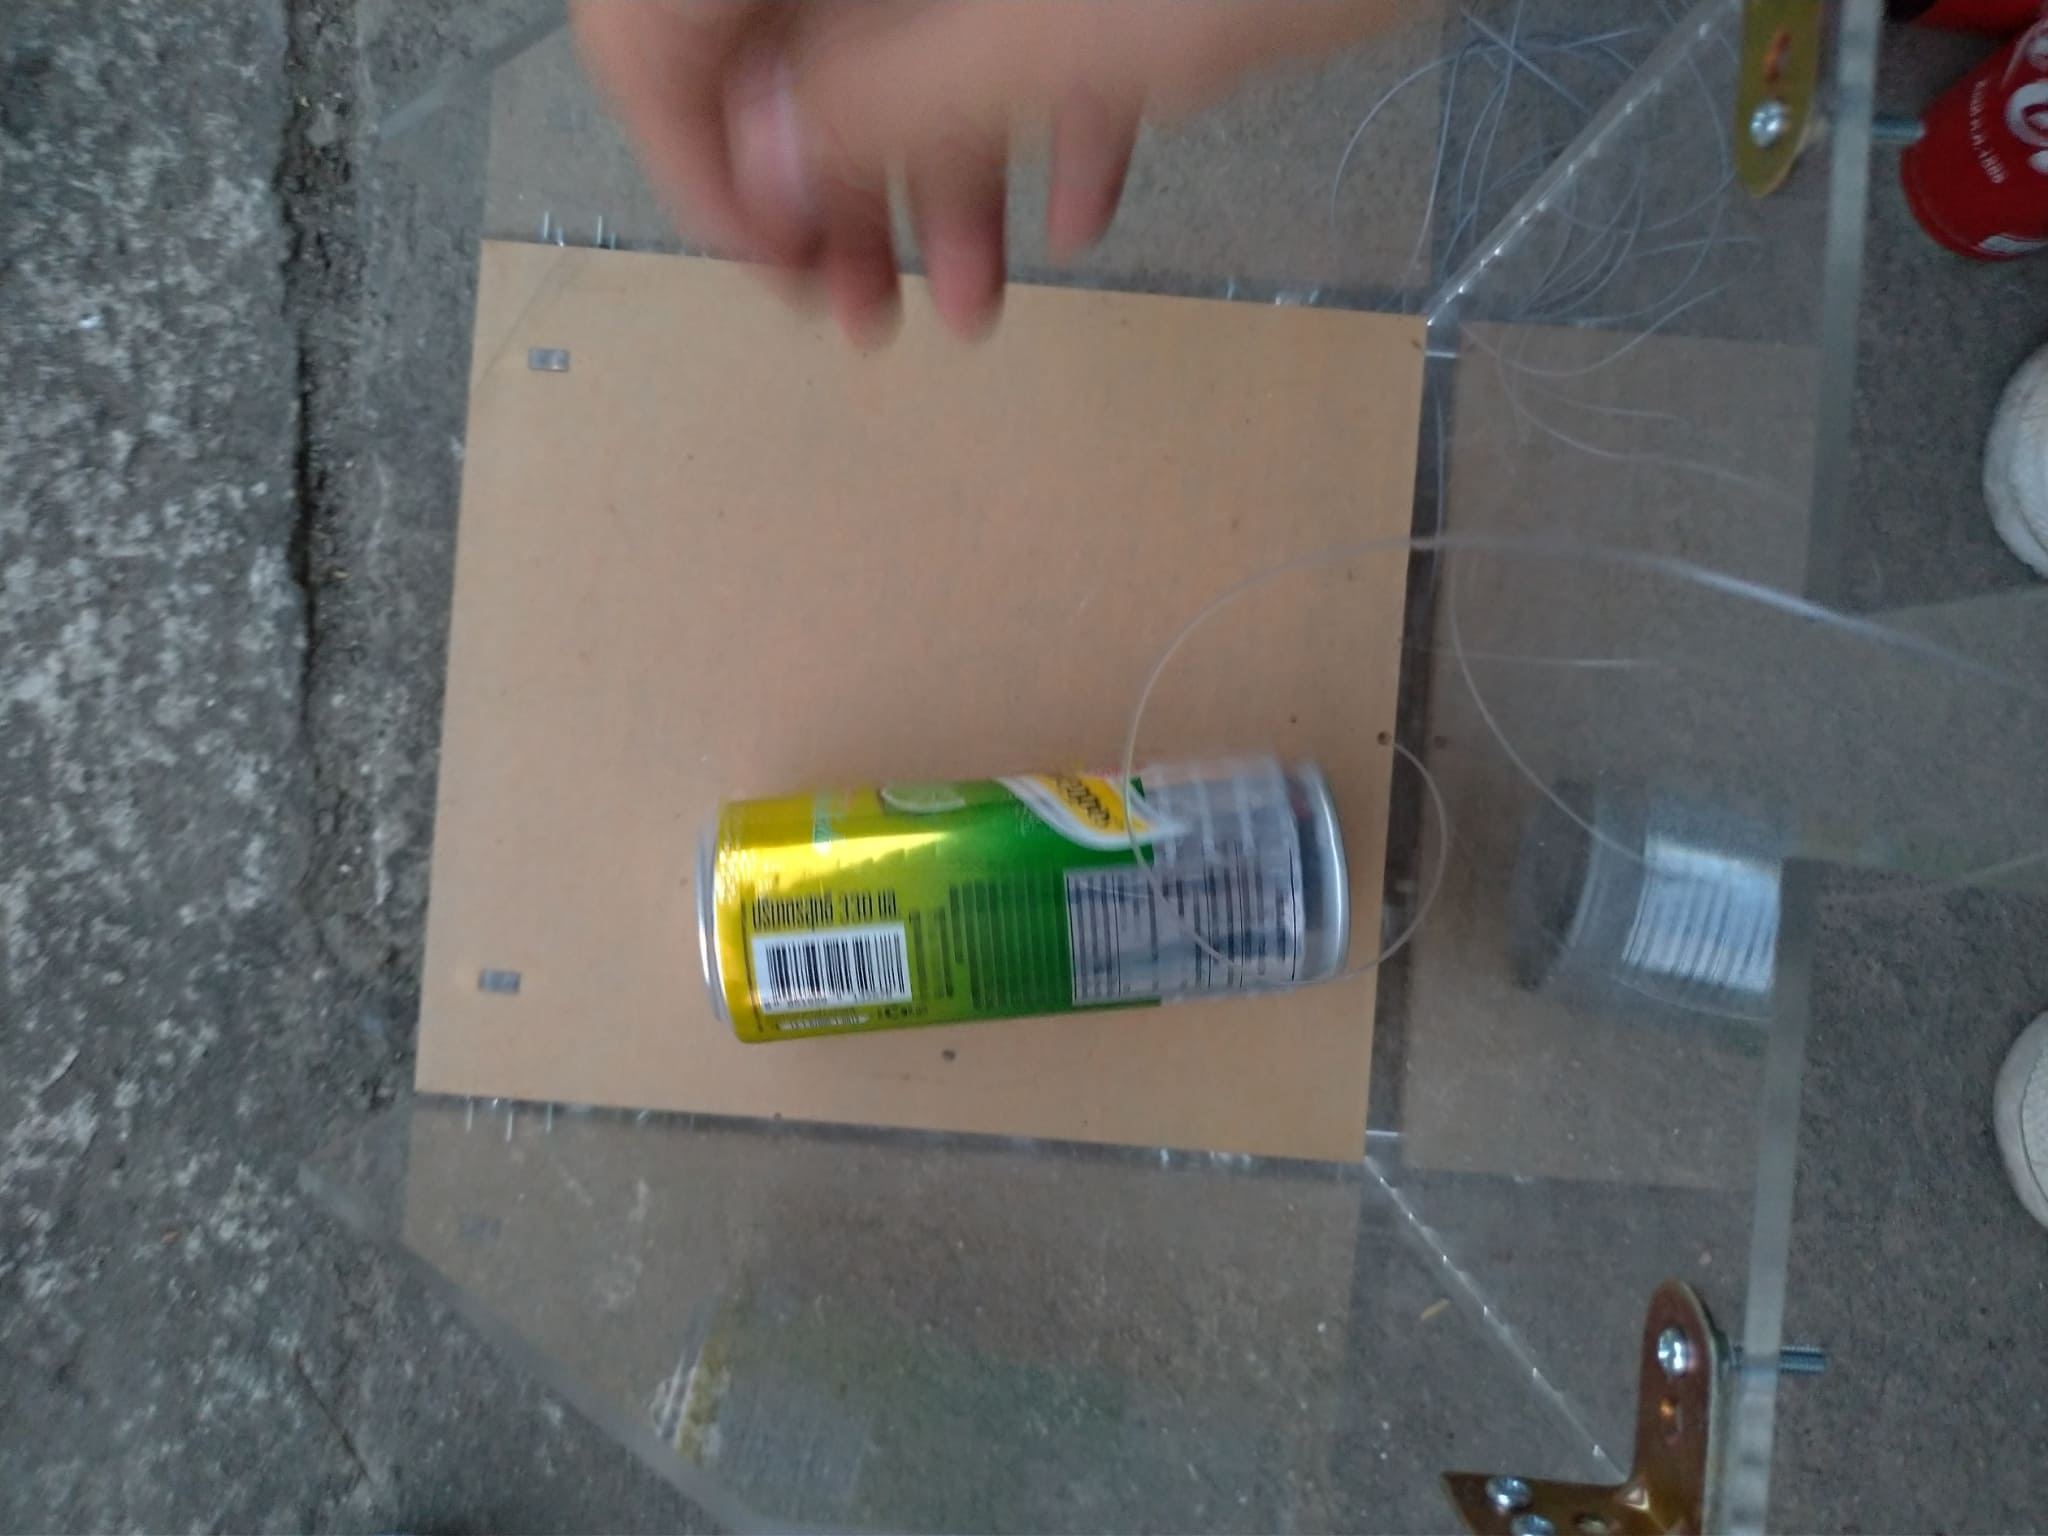AlCan: (697, 749, 1356, 1041), (1901, 23, 2048, 261)
